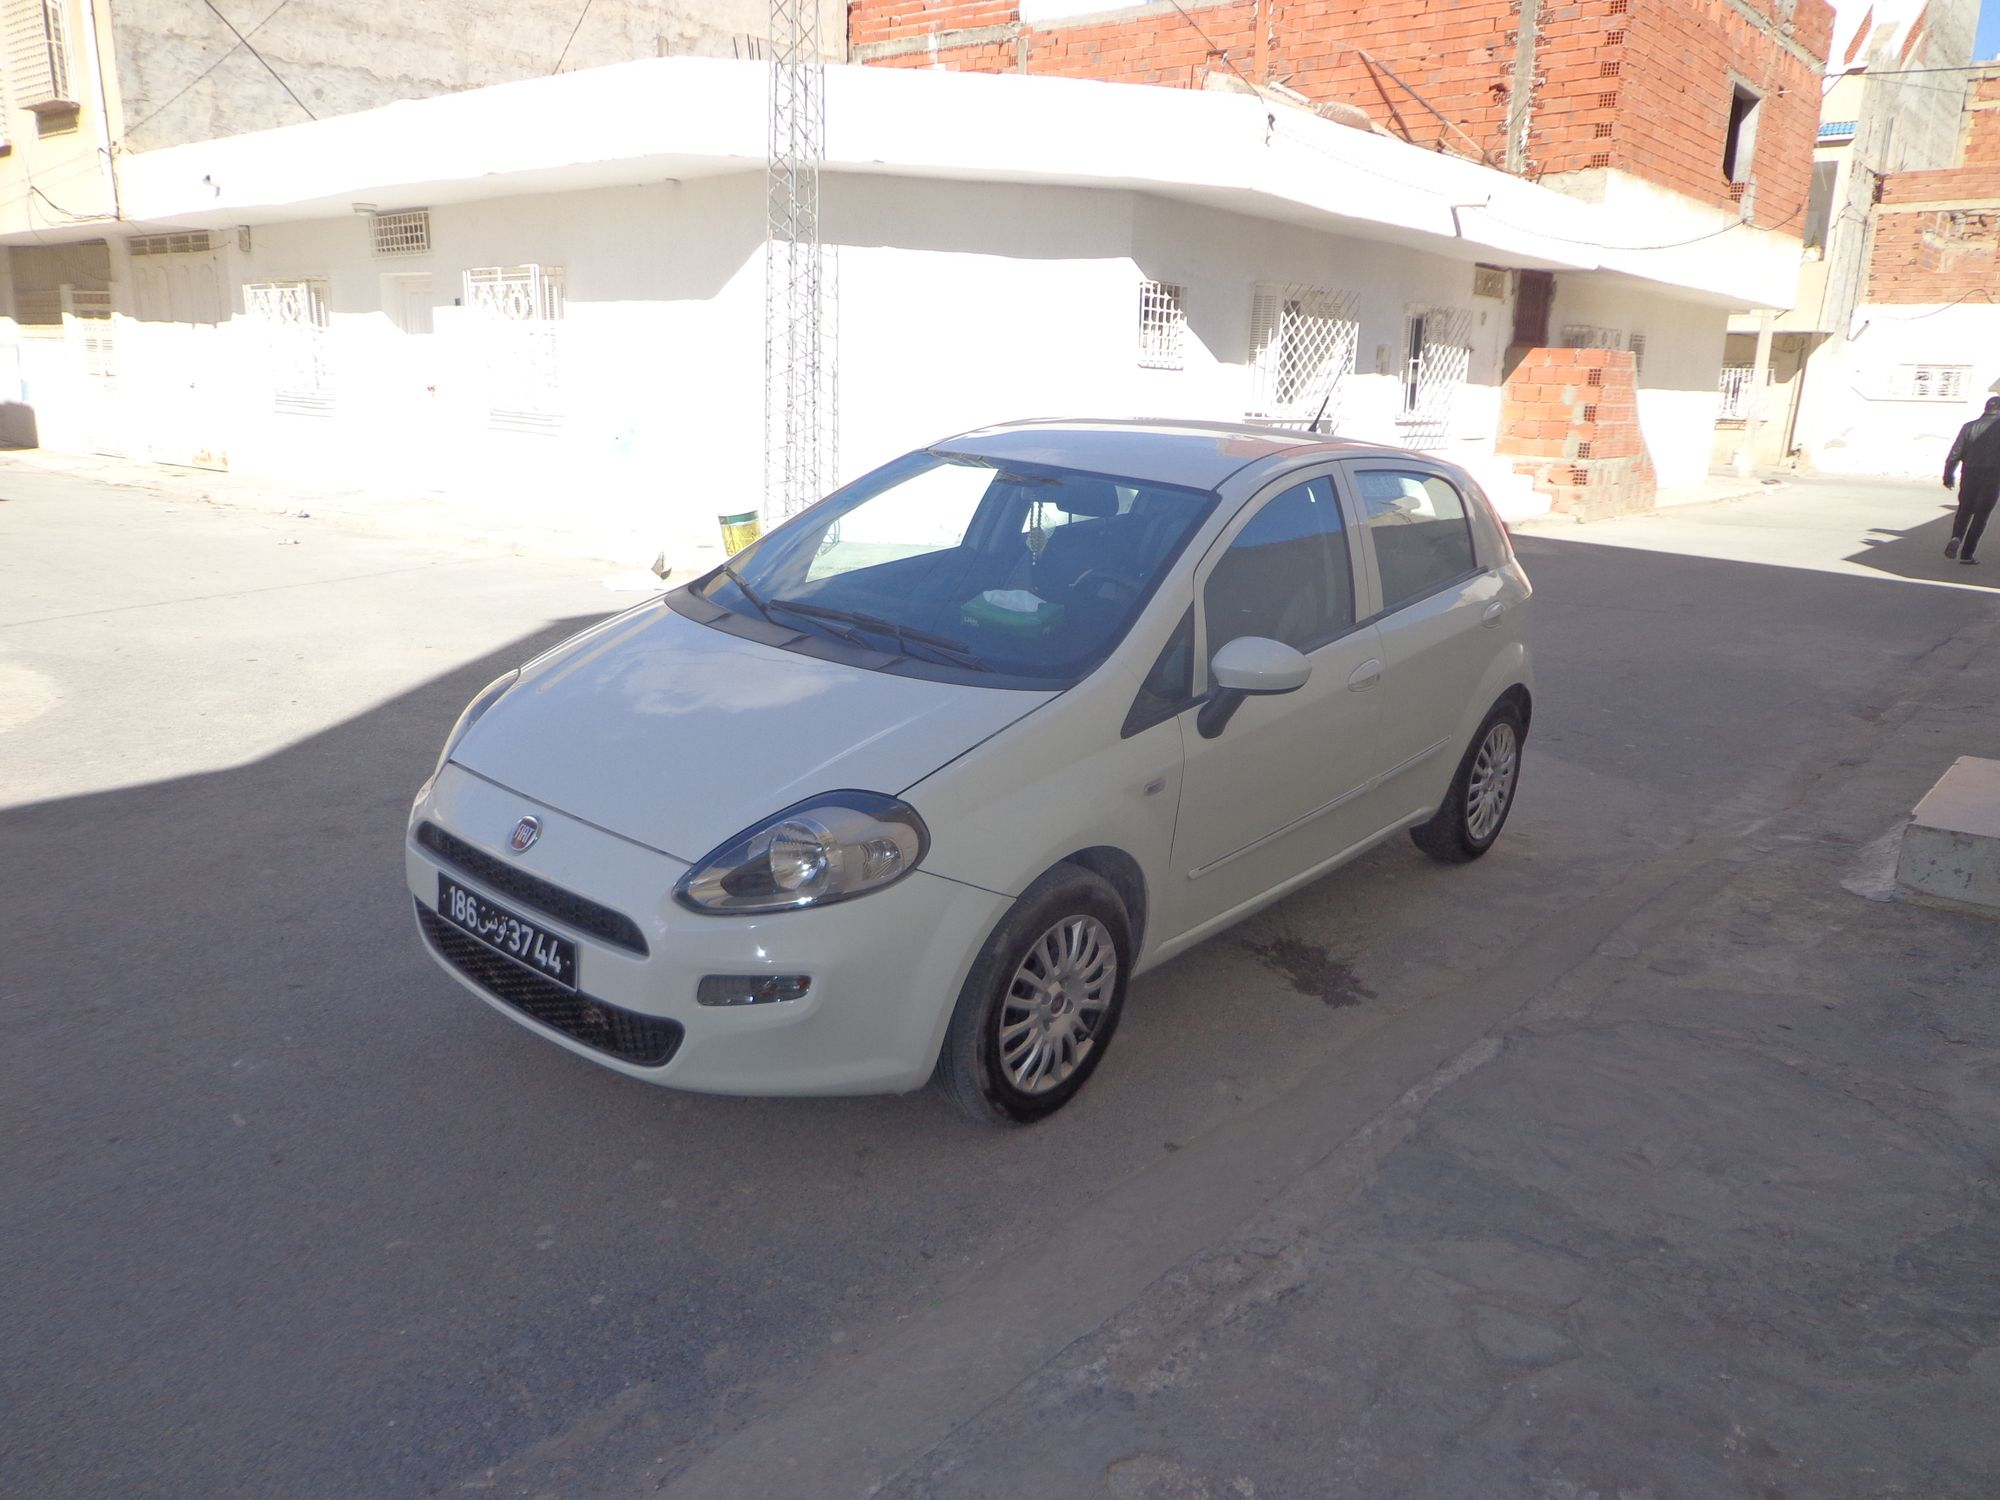LP: (436, 870, 581, 993)
